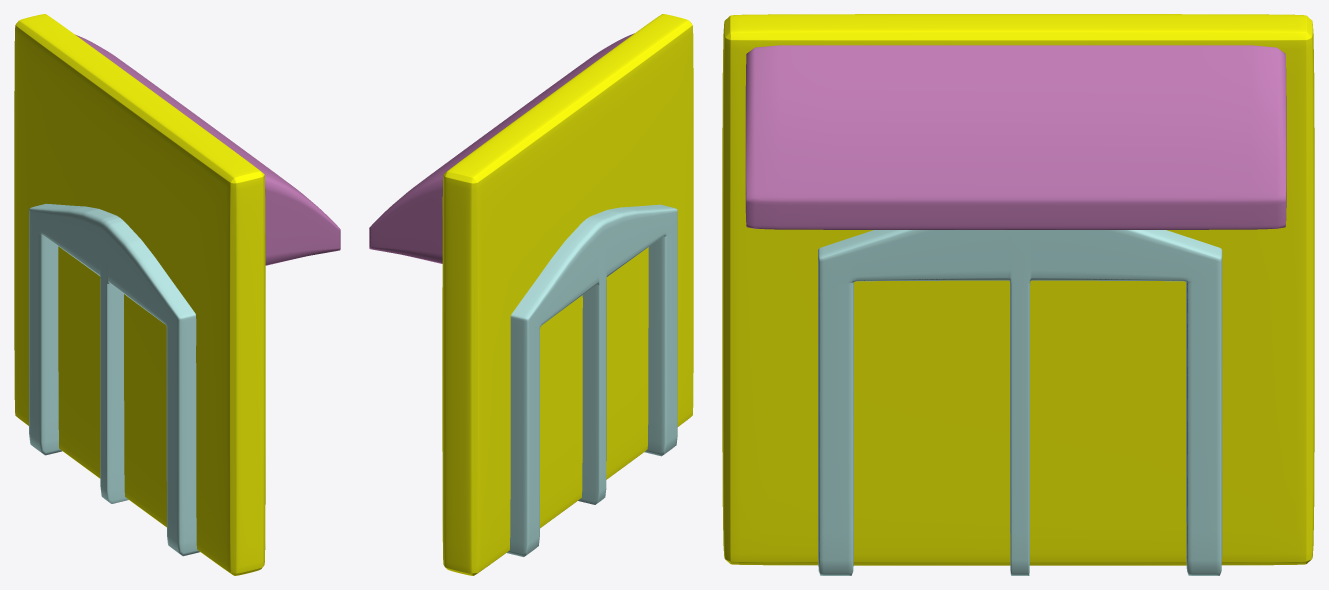
3 renders of one model, left to right at view 1: azimuth 30°, elevation 25°; view 2: azimuth 150°, elevation 25°; view 3: azimuth 270°, elevation 25°, orthographic. The views are drawn at different scales.
Parts seen in each view (by area): view 1: pCube669; view 2: pCube669; view 3: pCube669.
Part boxes in pixels (left/top/right/bottom): pCube669: left=14, top=14, right=340, bottom=575; pCube669: left=369, top=14, right=693, bottom=575; pCube669: left=722, top=14, right=1314, bottom=575.
Size of the model in its own units: 0.3555 by 0.9995 by 0.9995.
